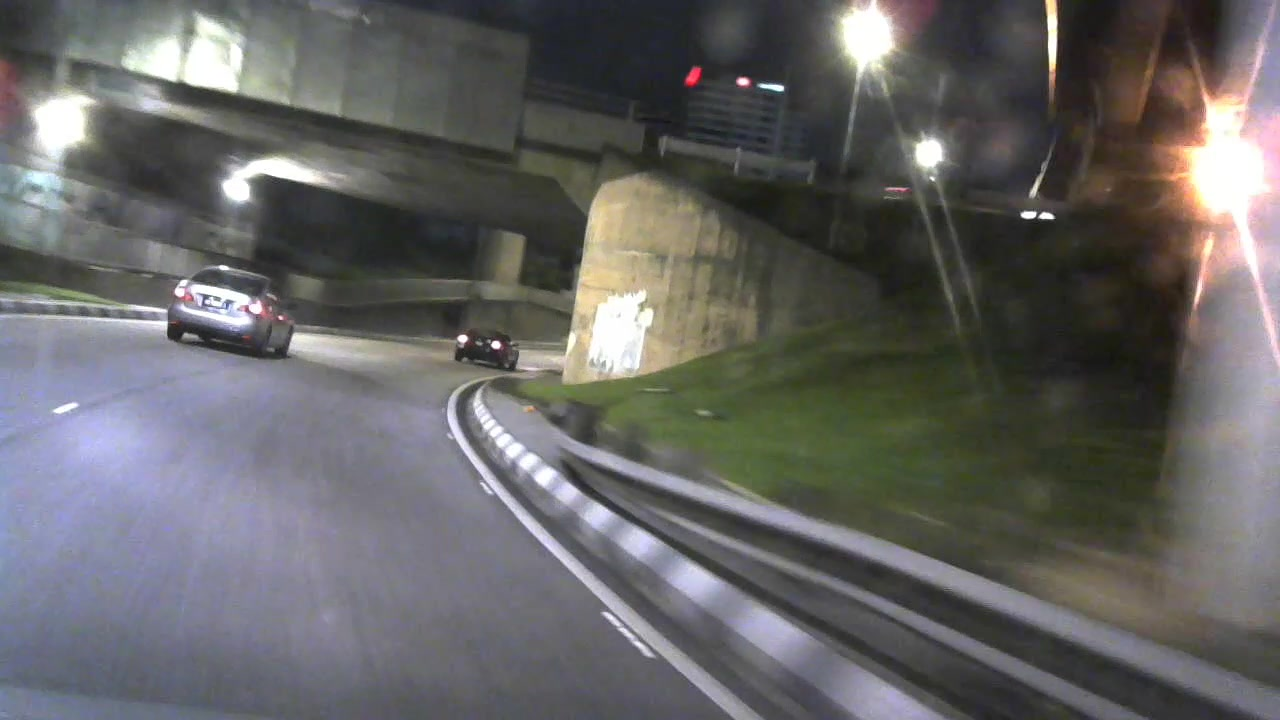Car: (166, 261, 304, 365), (453, 326, 521, 369)
